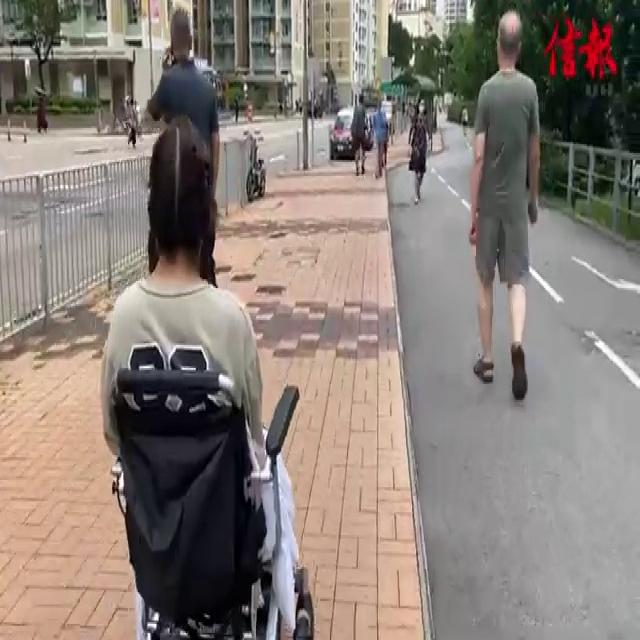wheelchairs: (83, 347, 324, 640)
